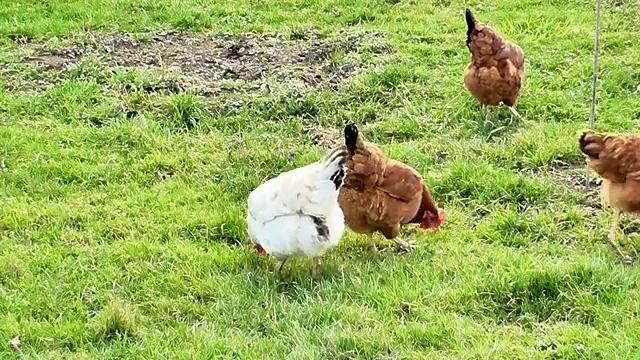Normal: (337, 123, 443, 248), (466, 11, 526, 118)
